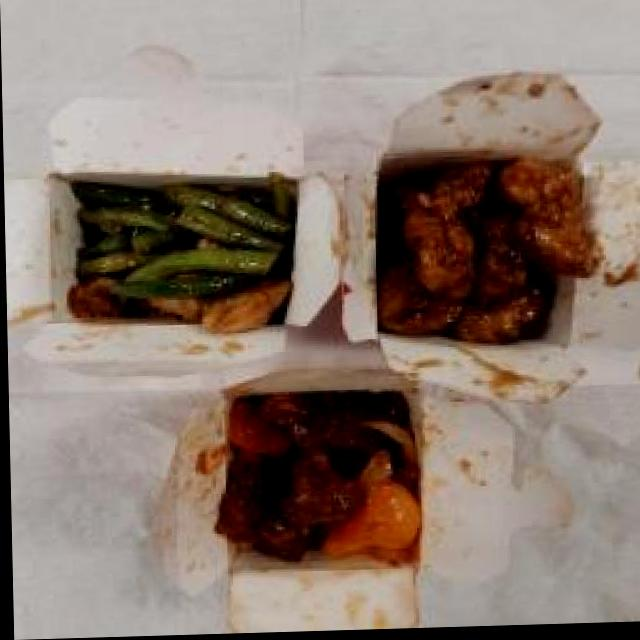Beijing Beef: (210, 390, 426, 570)
String Bean Chicken Breast: (63, 171, 301, 342)
The Original Orange Chicken: (371, 151, 599, 354)
